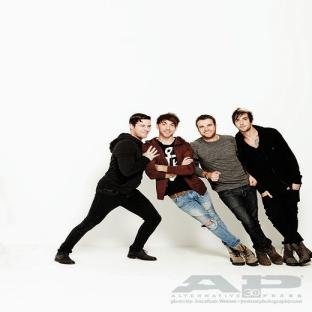Human: (55, 109, 311, 266)
